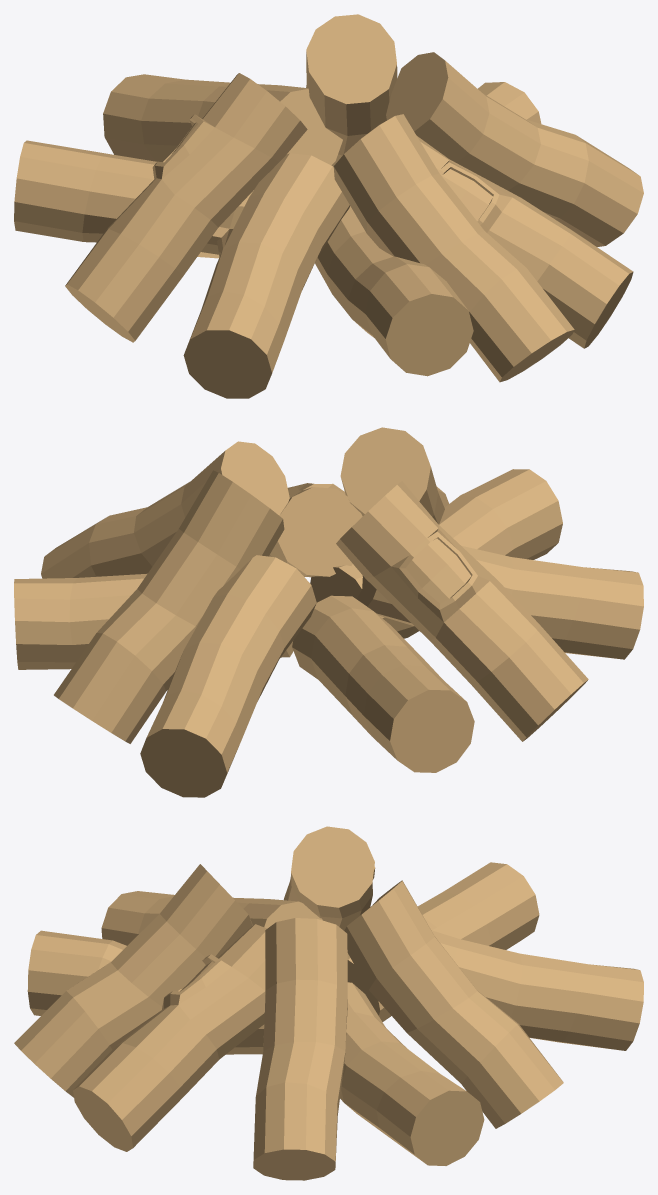
The model's file is campfire.glb.
3 renders of one model, top to bottom at view 1: azimuth 30°, elevation 25°; view 2: azimuth 150°, elevation 25°; view 3: azimuth 270°, elevation 25°, orthographic. The views are drawn at different scales.
Visible parts, largest first — view 1: wood; view 2: wood; view 3: wood.
Boxes of the visible parts, x1=… form: wood: x1=14, y1=14, x2=643, y2=398; wood: x1=14, y1=427, x2=643, y2=797; wood: x1=14, y1=826, x2=643, y2=1180.
Size of the model in its own units: 0.6874 by 0.2894 by 0.7409.
